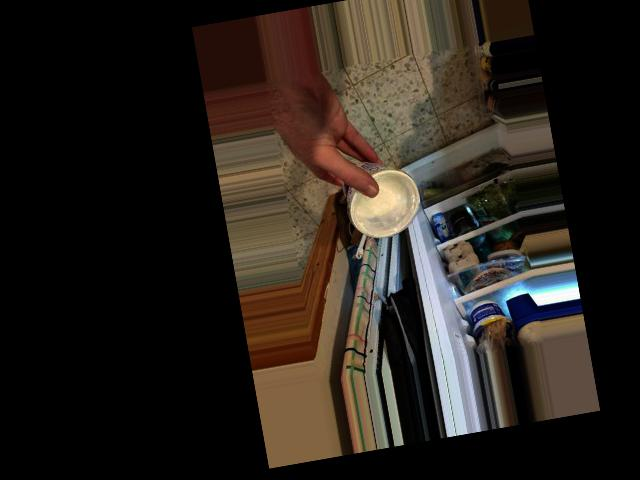cotage: (339, 152, 419, 248)
